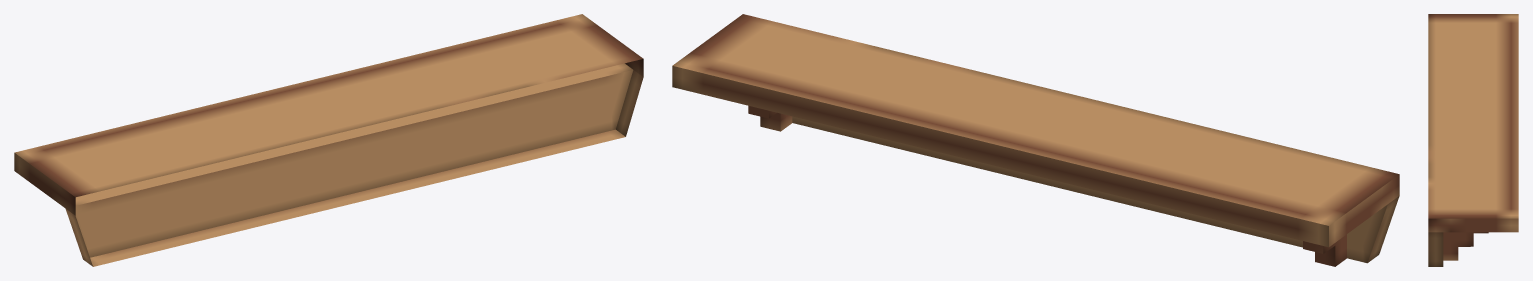
The model's file is SM_WallShelf_01_.fbx.
3 renders of one model, left to right at view 1: azimuth 30°, elevation 25°; view 2: azimuth 150°, elevation 25°; view 3: azimuth 270°, elevation 25°, orthographic. The views are drawn at different scales.
Visible parts, largest first — view 1: WallShelf_01_.001; view 2: WallShelf_01_.001; view 3: WallShelf_01_.001.
Boxes of the visible parts, box(x1,y1,x2,y2) form: WallShelf_01_.001: box(14, 14, 643, 266); WallShelf_01_.001: box(672, 14, 1399, 266); WallShelf_01_.001: box(1428, 14, 1518, 266).
Size of the model in its own units: 103 by 12.8 by 19.2.
